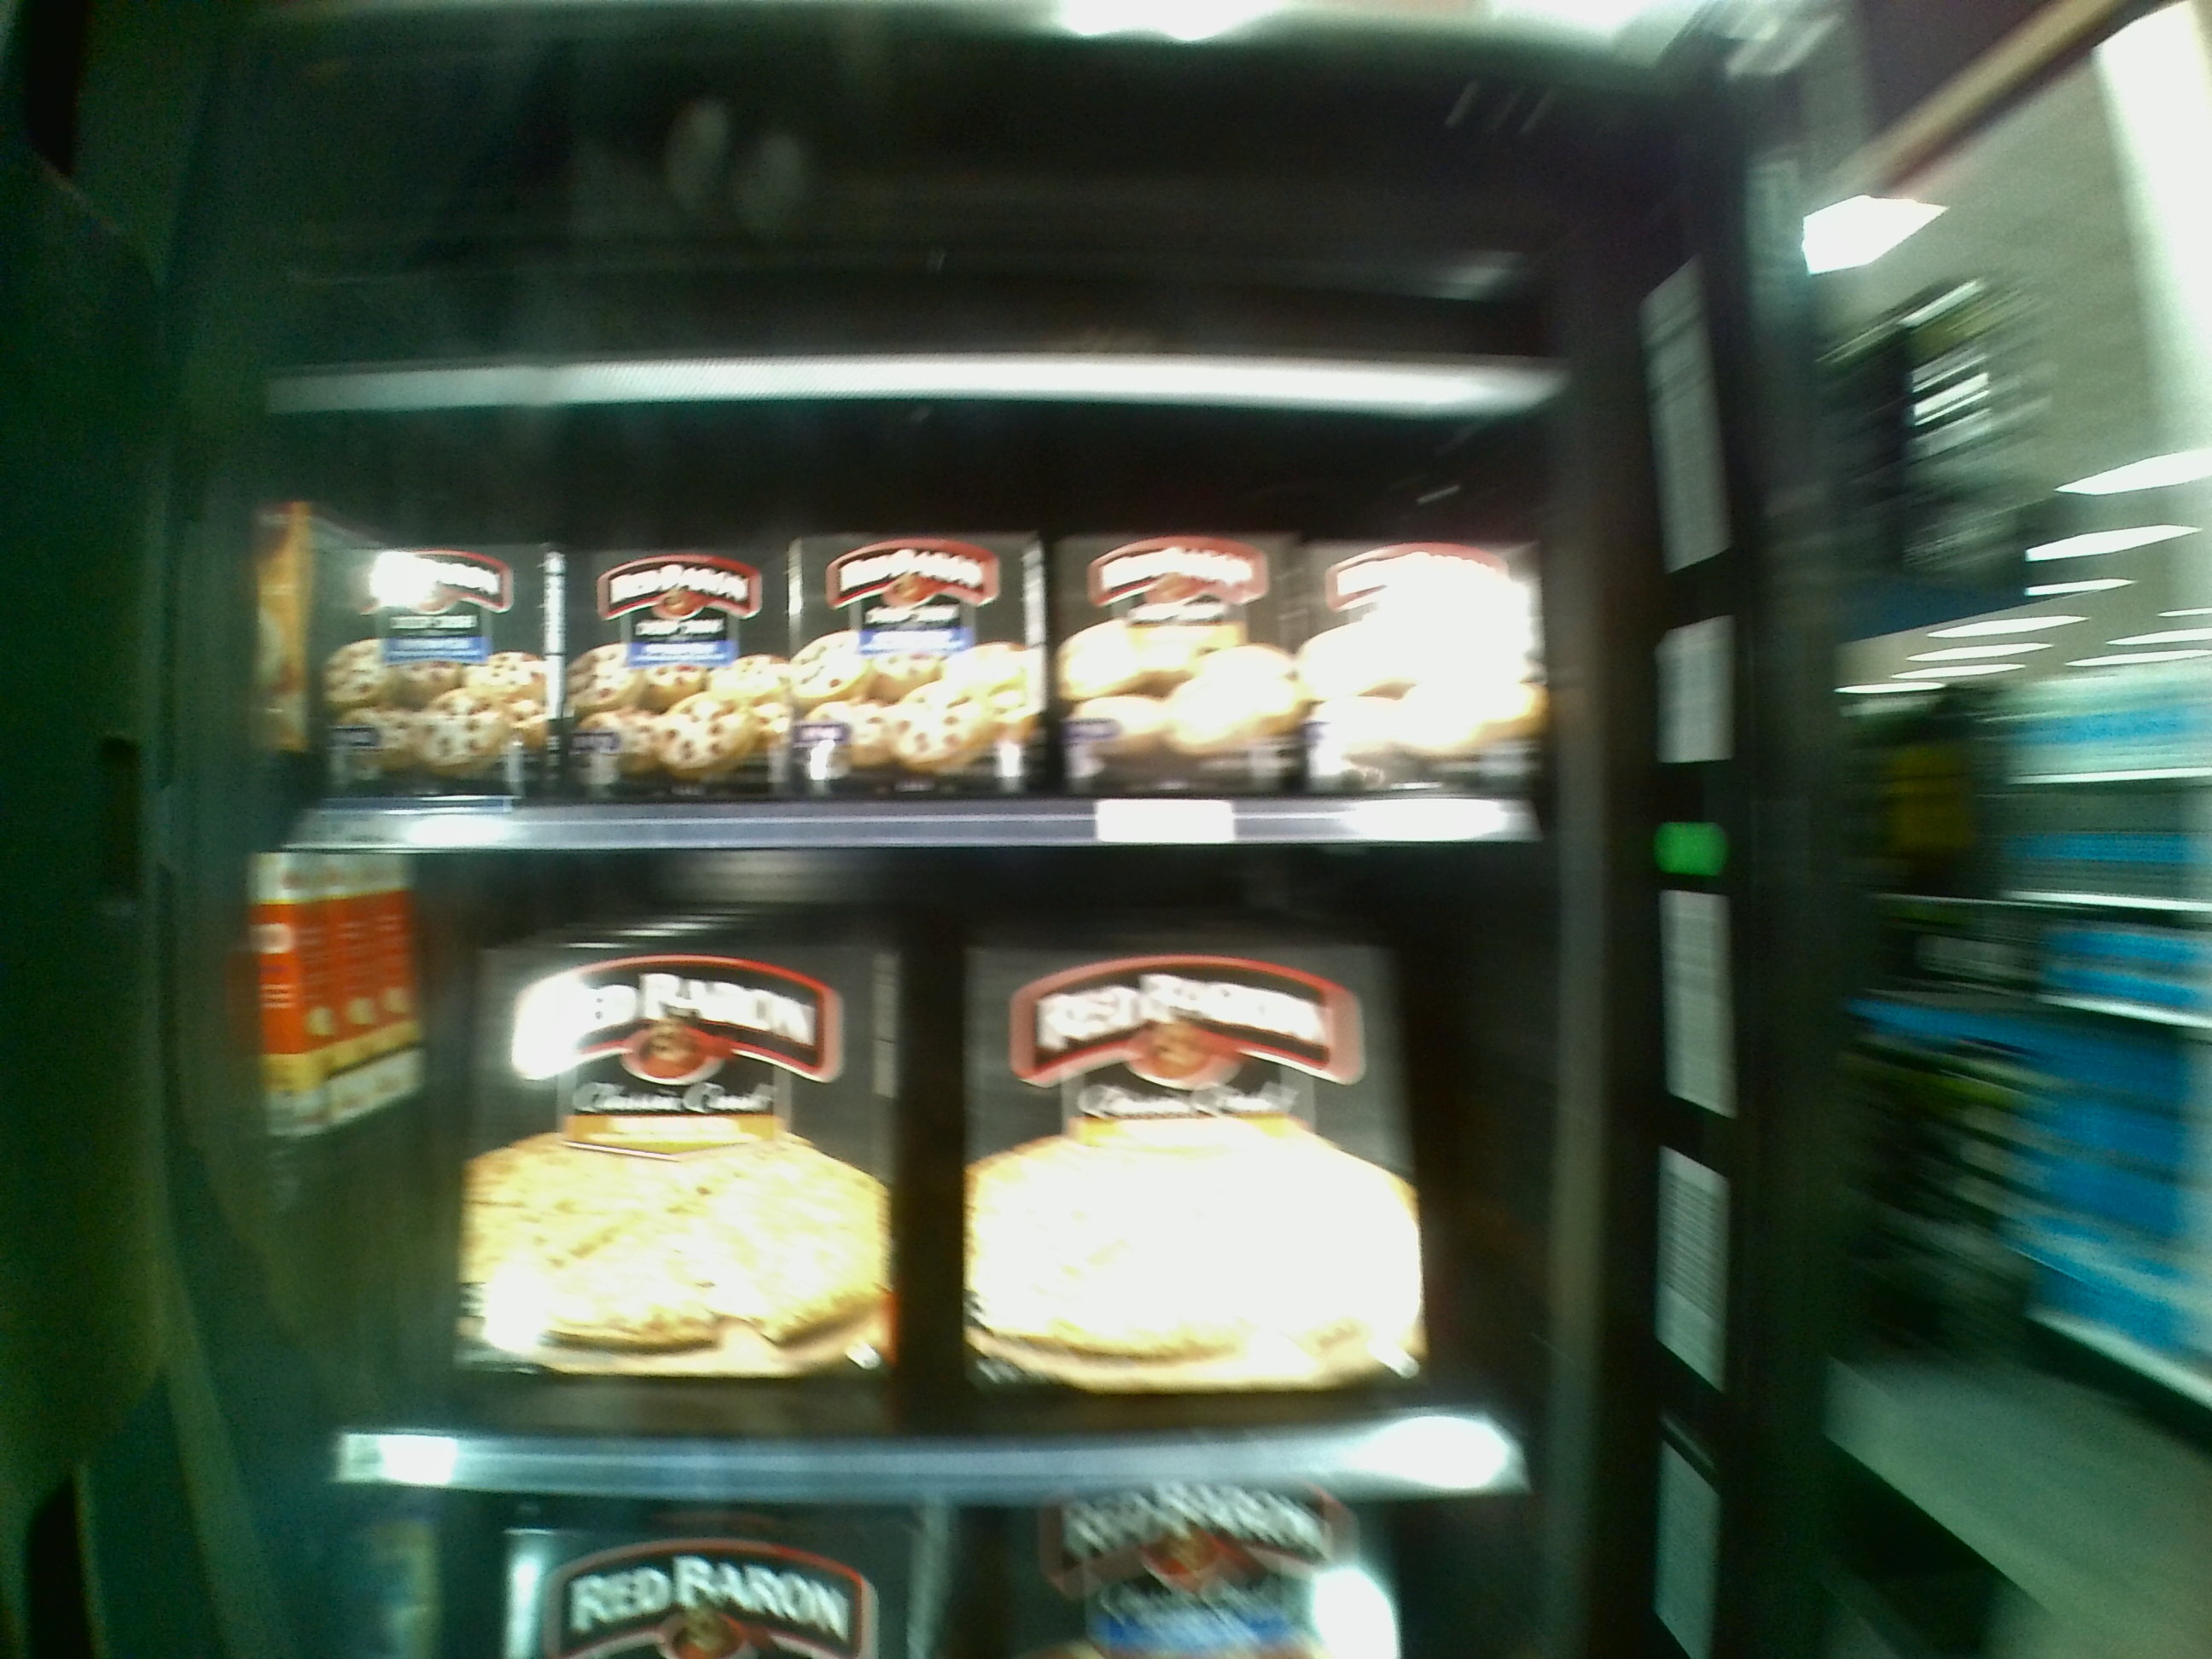shelf: (301, 847, 1552, 1488), (291, 408, 1561, 850)
